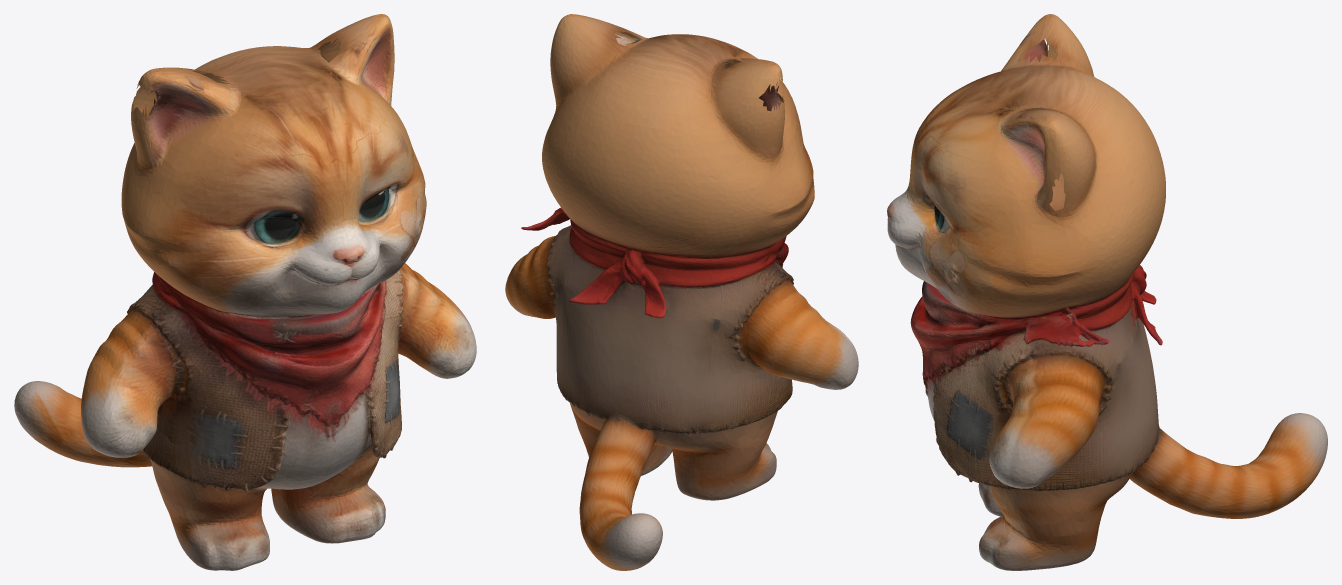
File: meo-mv-nan-in.glb
3 views of the same model, side by side, from view 1: azimuth 30°, elevation 25°; view 2: azimuth 150°, elevation 25°; view 3: azimuth 270°, elevation 25° (orthographic). The views are drawn at different scales.
Visible parts, largest first — view 1: meo-1234; view 2: meo-1234; view 3: meo-1234.
Boxes of the visible parts, x1,y1,x2,y2 form: meo-1234: (14, 14, 476, 570); meo-1234: (505, 14, 858, 570); meo-1234: (887, 14, 1327, 570).
Size of the model in its own units: 1.64 by 2 by 1.71.
Materials: 1 (1 with a texture image).
